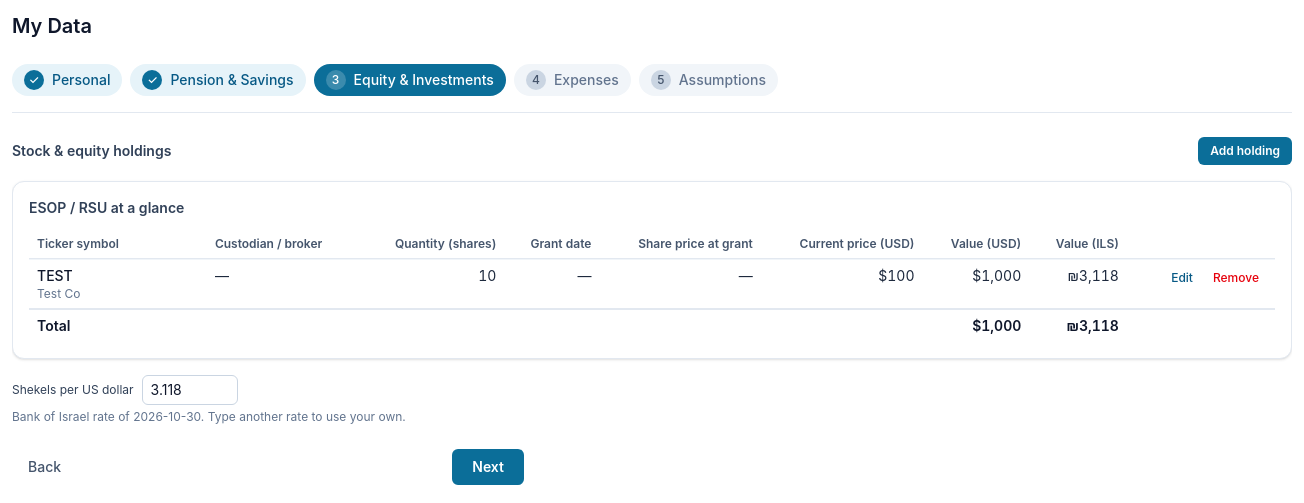
My Data summary tables — dollar rate › values the holdings at a rate the user types, keeps it as theirs and offers a way back
Replace the text in the number field labelled "Shekels per US dollar" with "3.5": x=190, y=390 142,375 -> 238,405
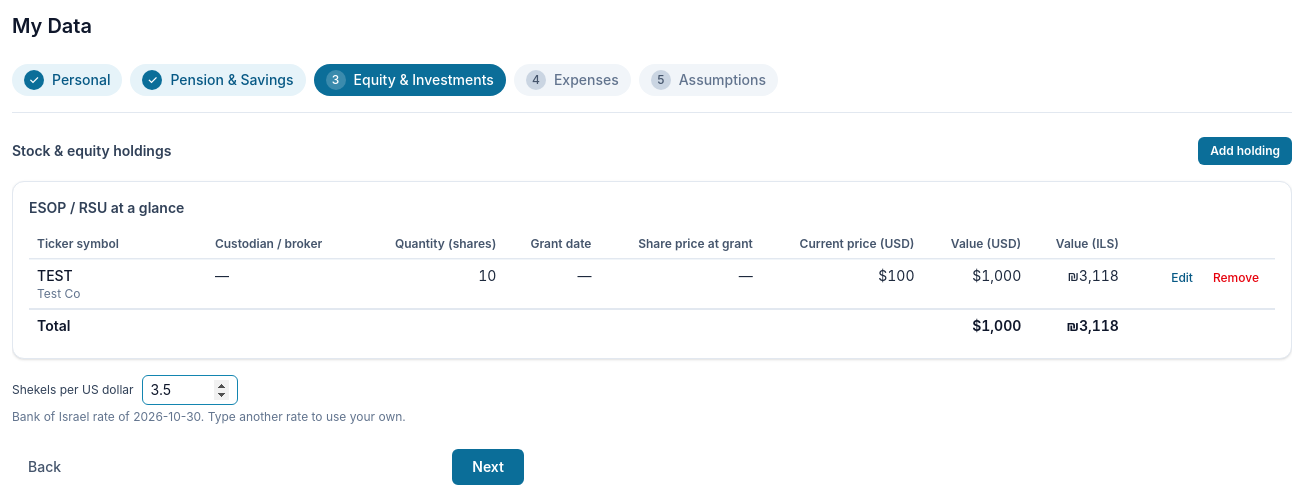
Press Tab
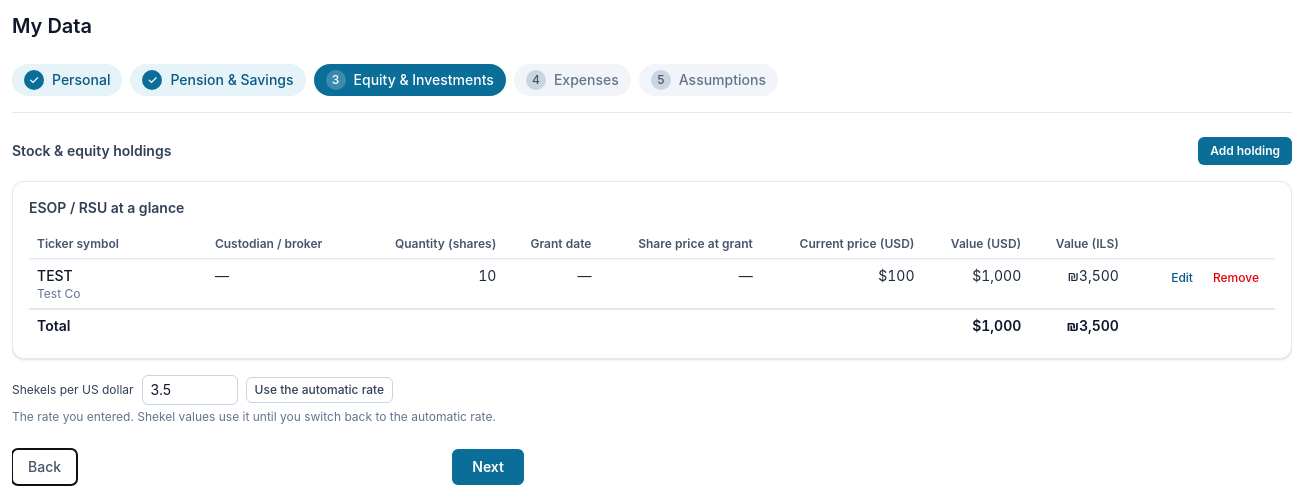
Check: the text "The rate you entered" is shown, box 12,409 -> 496,424
Click the button "Use the automatic rate": x=319, y=390 246,377 -> 393,403
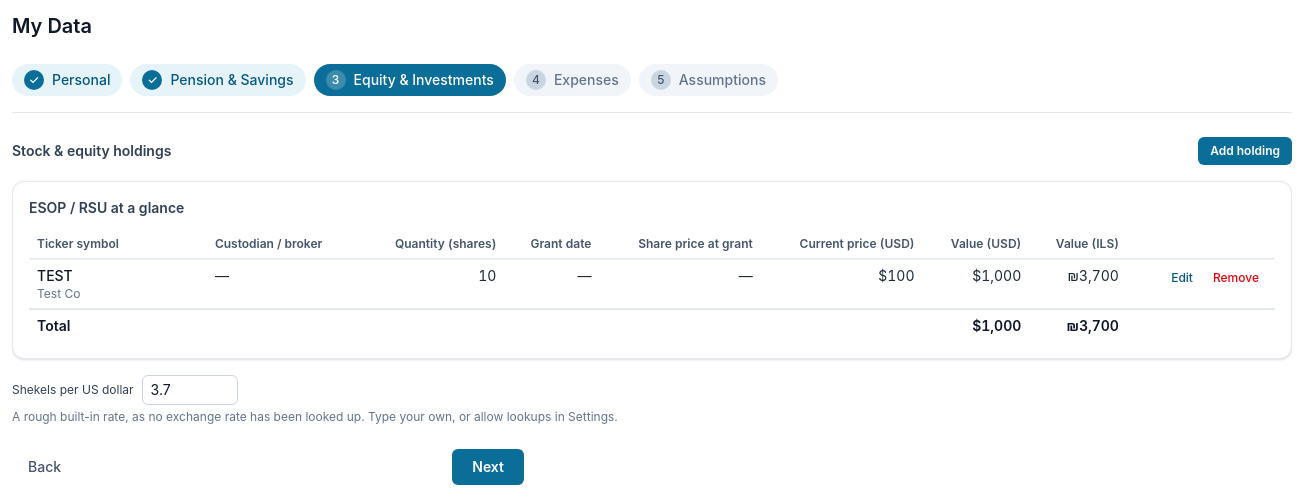
Check: the number field labelled "Shekels per US dollar" holds "3.7", box 142,375 -> 238,405
Check: the text "A rough built-in rate" is shown, box 12,409 -> 618,424
Check: the button "Use the automatic rate" is gone
